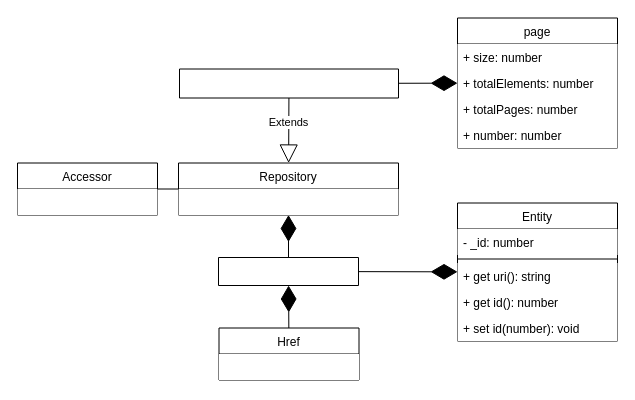
Some shapes in this 635 by 400 pixel diagram are drawn without their labels. The centre of each missing label's shape, as x and y in pixels:
+ _embedded: Accessor: [288,201]
+ accessorName: string: [87,201]
+ href: string: [288,367]
_links: [288,271]
PagingAndSortingRepository: [288,83]
